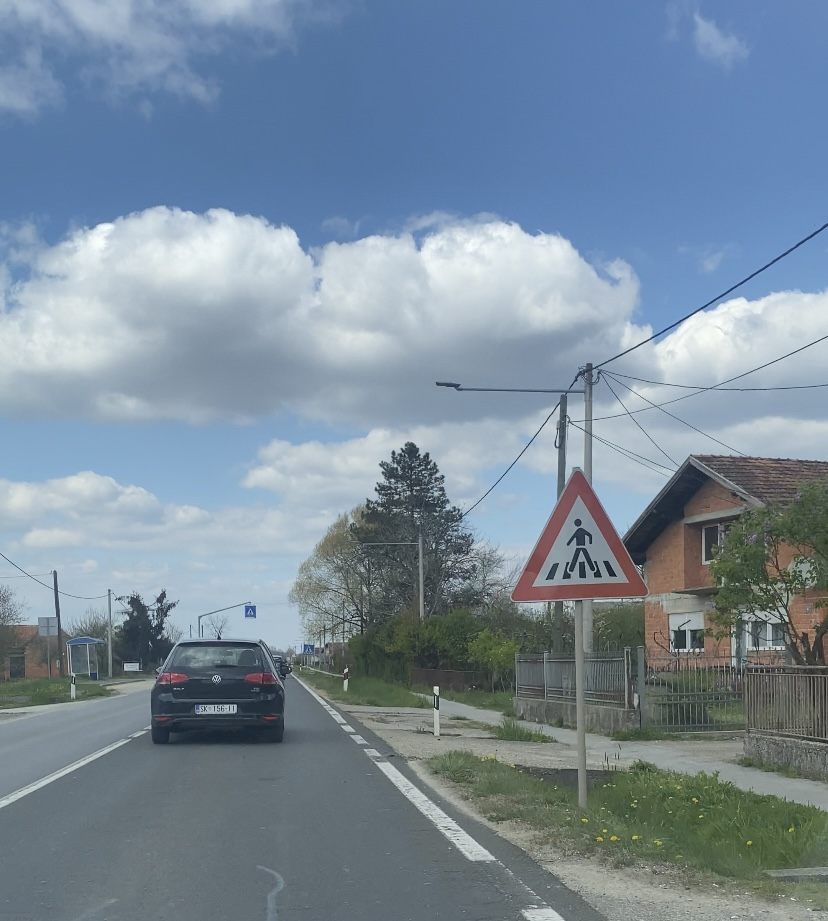Pješački prijelaz: (245, 606, 256, 617), (304, 645, 314, 655)
Približavanje pješačkom prijelazu: (510, 468, 650, 603)
